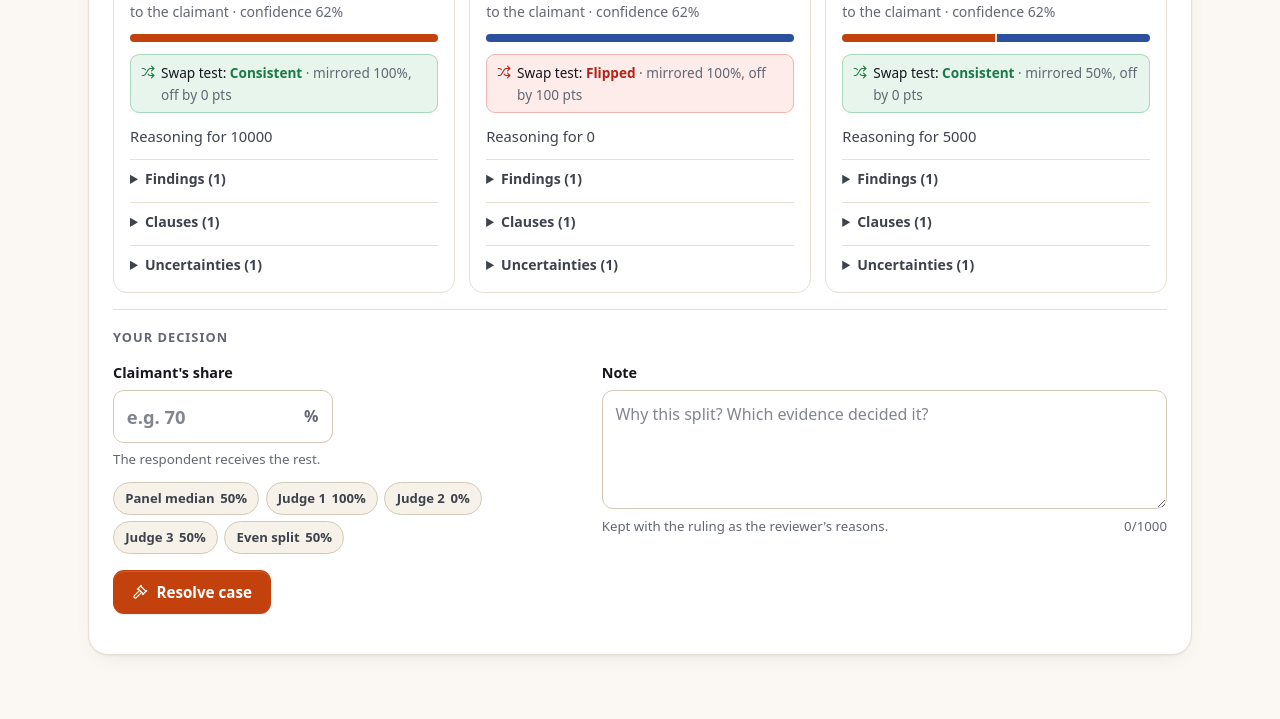
it: the decision form › rejects a share of -1
The image size is (1280, 719).
(page scrolled)
In the field with test id "share-input": (202, 417) [114, 392, 290, 442], type "-1"
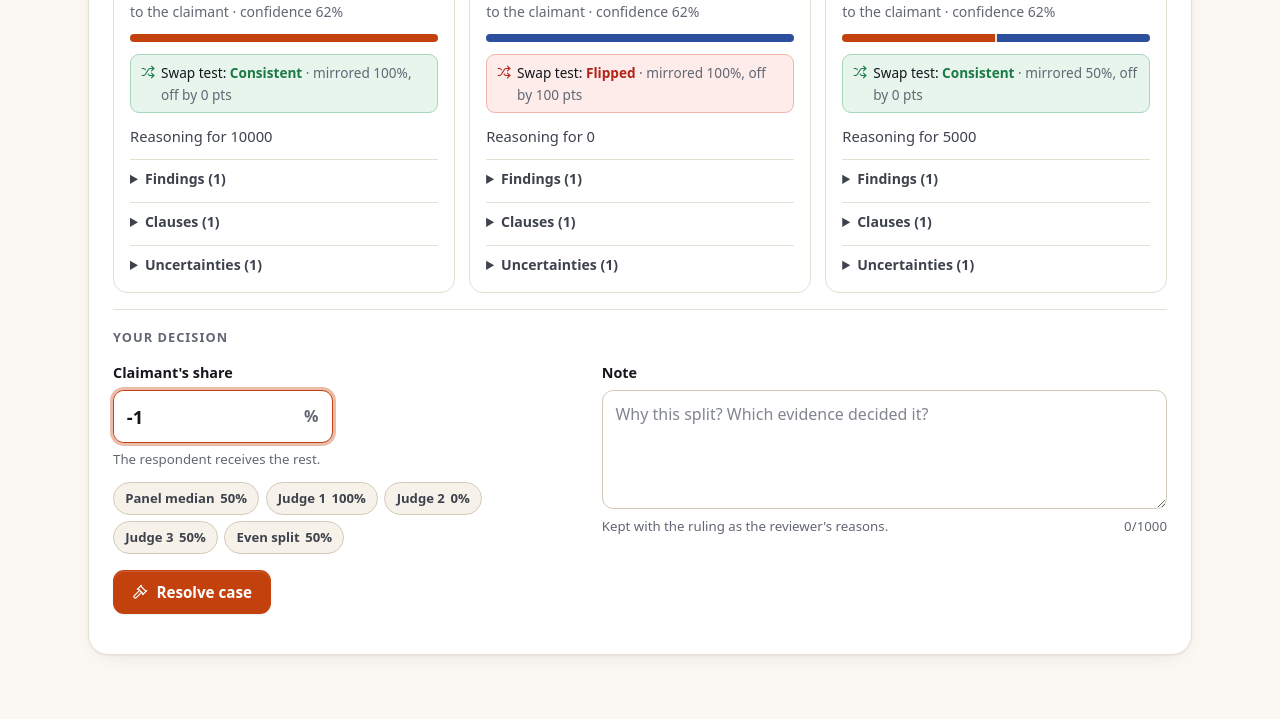
In the text box with test id "note-input": (884, 450) [602, 390, 1167, 509], type "Reasons."
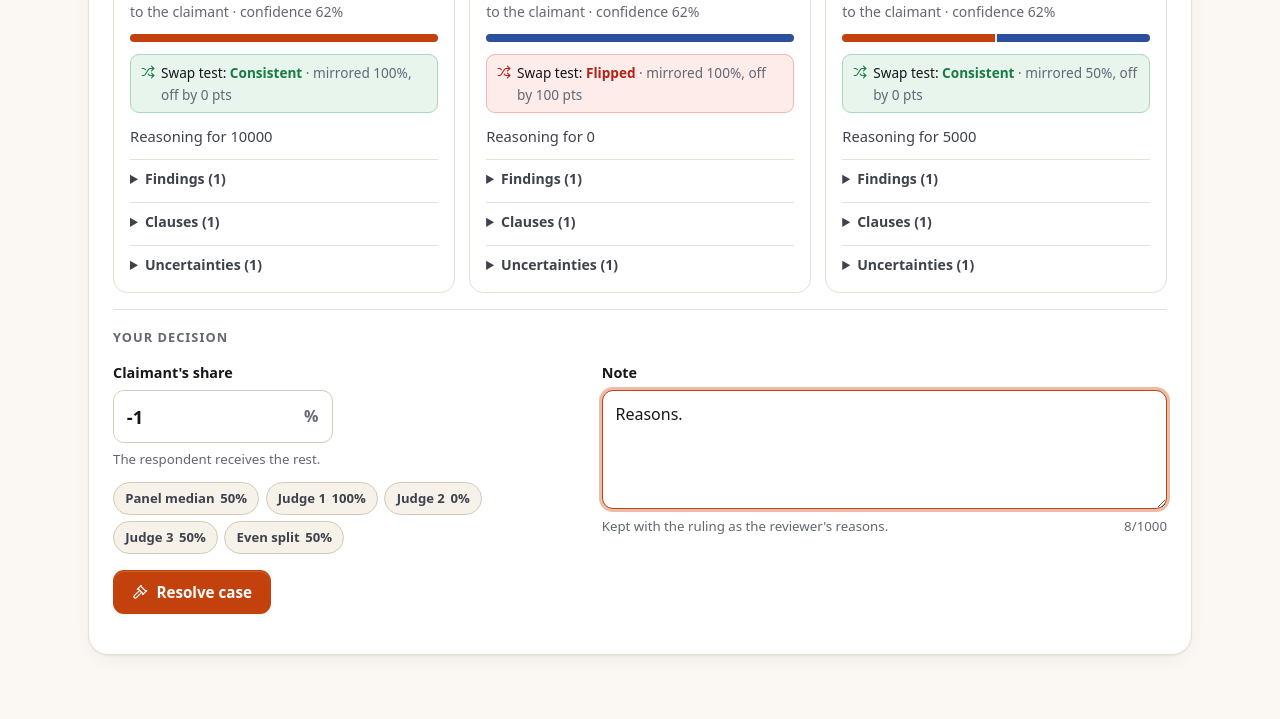
Click the button with test id "resolve": click(192, 592) [113, 570, 271, 614]
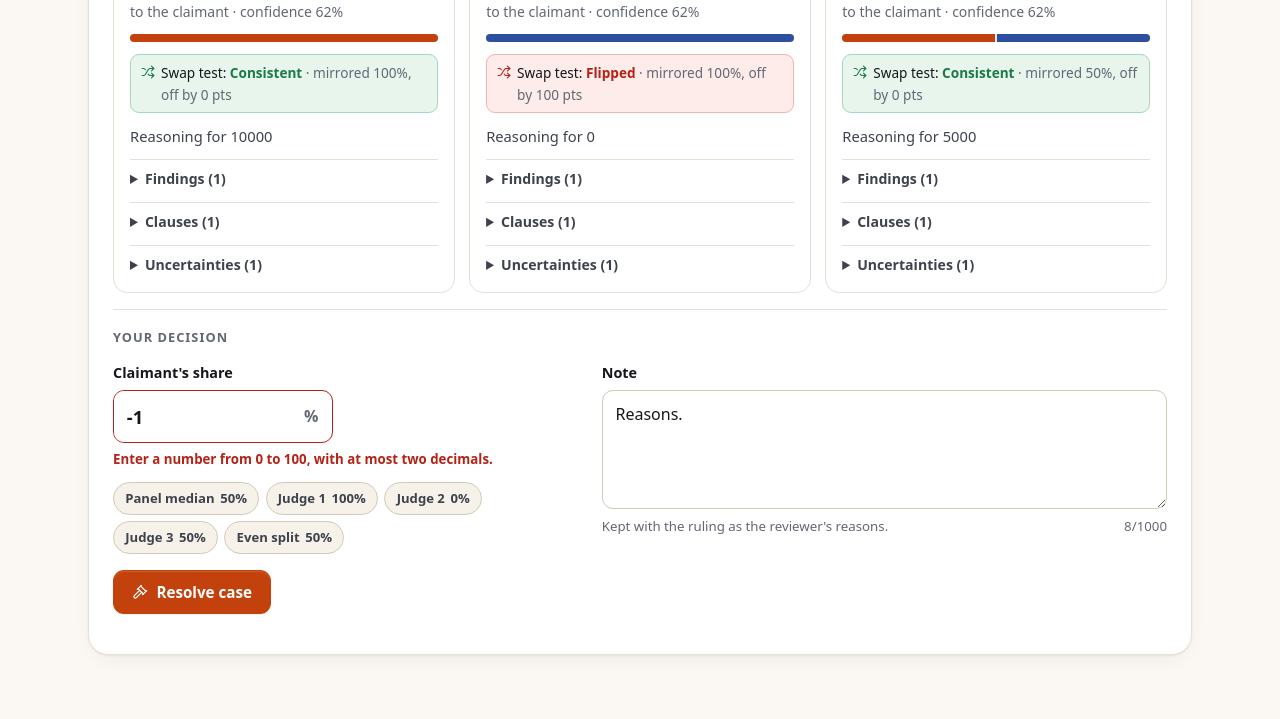
Now the message shows "from 0 to 100", box [113, 450, 493, 468]
